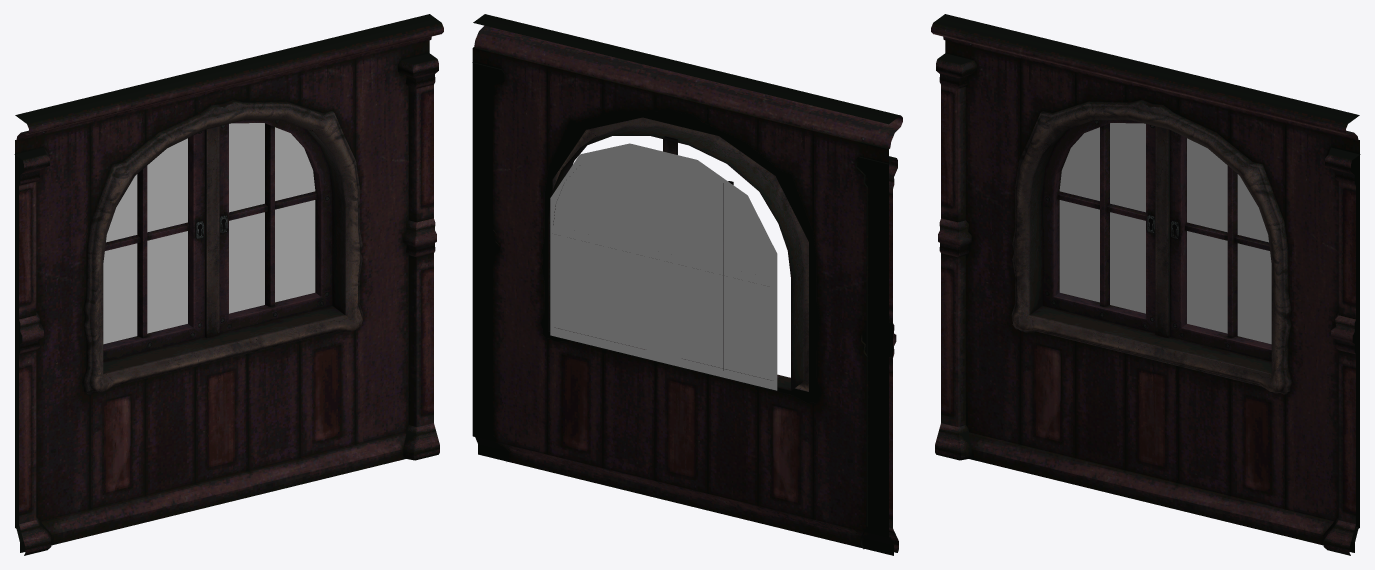
File: 42_window02_blue.dae
3 renders of one model, left to right at view 1: azimuth 30°, elevation 25°; view 2: azimuth 150°, elevation 25°; view 3: azimuth 330°, elevation 25°, orthographic.
Parts seen in each view (by area): view 1: mansionbase02_window, mansionbase_window_frame1, mansionbase_window_blue; view 2: mansionbase02_window, mansionbase_window_blue, mansionbase_window_frame1; view 3: mansionbase02_window, mansionbase_window_frame1, mansionbase_window_blue.
Boxes of the visible parts, x1,y1,x2,y2 form: mansionbase02_window: [14, 14, 443, 555]; mansionbase_window_frame1: [82, 100, 363, 394]; mansionbase_window_blue: [103, 123, 315, 344]; mansionbase02_window: [472, 14, 902, 555]; mansionbase_window_blue: [550, 143, 777, 390]; mansionbase_window_frame1: [540, 110, 819, 403]; mansionbase02_window: [931, 14, 1360, 555]; mansionbase_window_frame1: [1011, 100, 1292, 394]; mansionbase_window_blue: [1059, 123, 1271, 344].
Bounding box in the file's own units: 4 × 4 × 0.5209.
